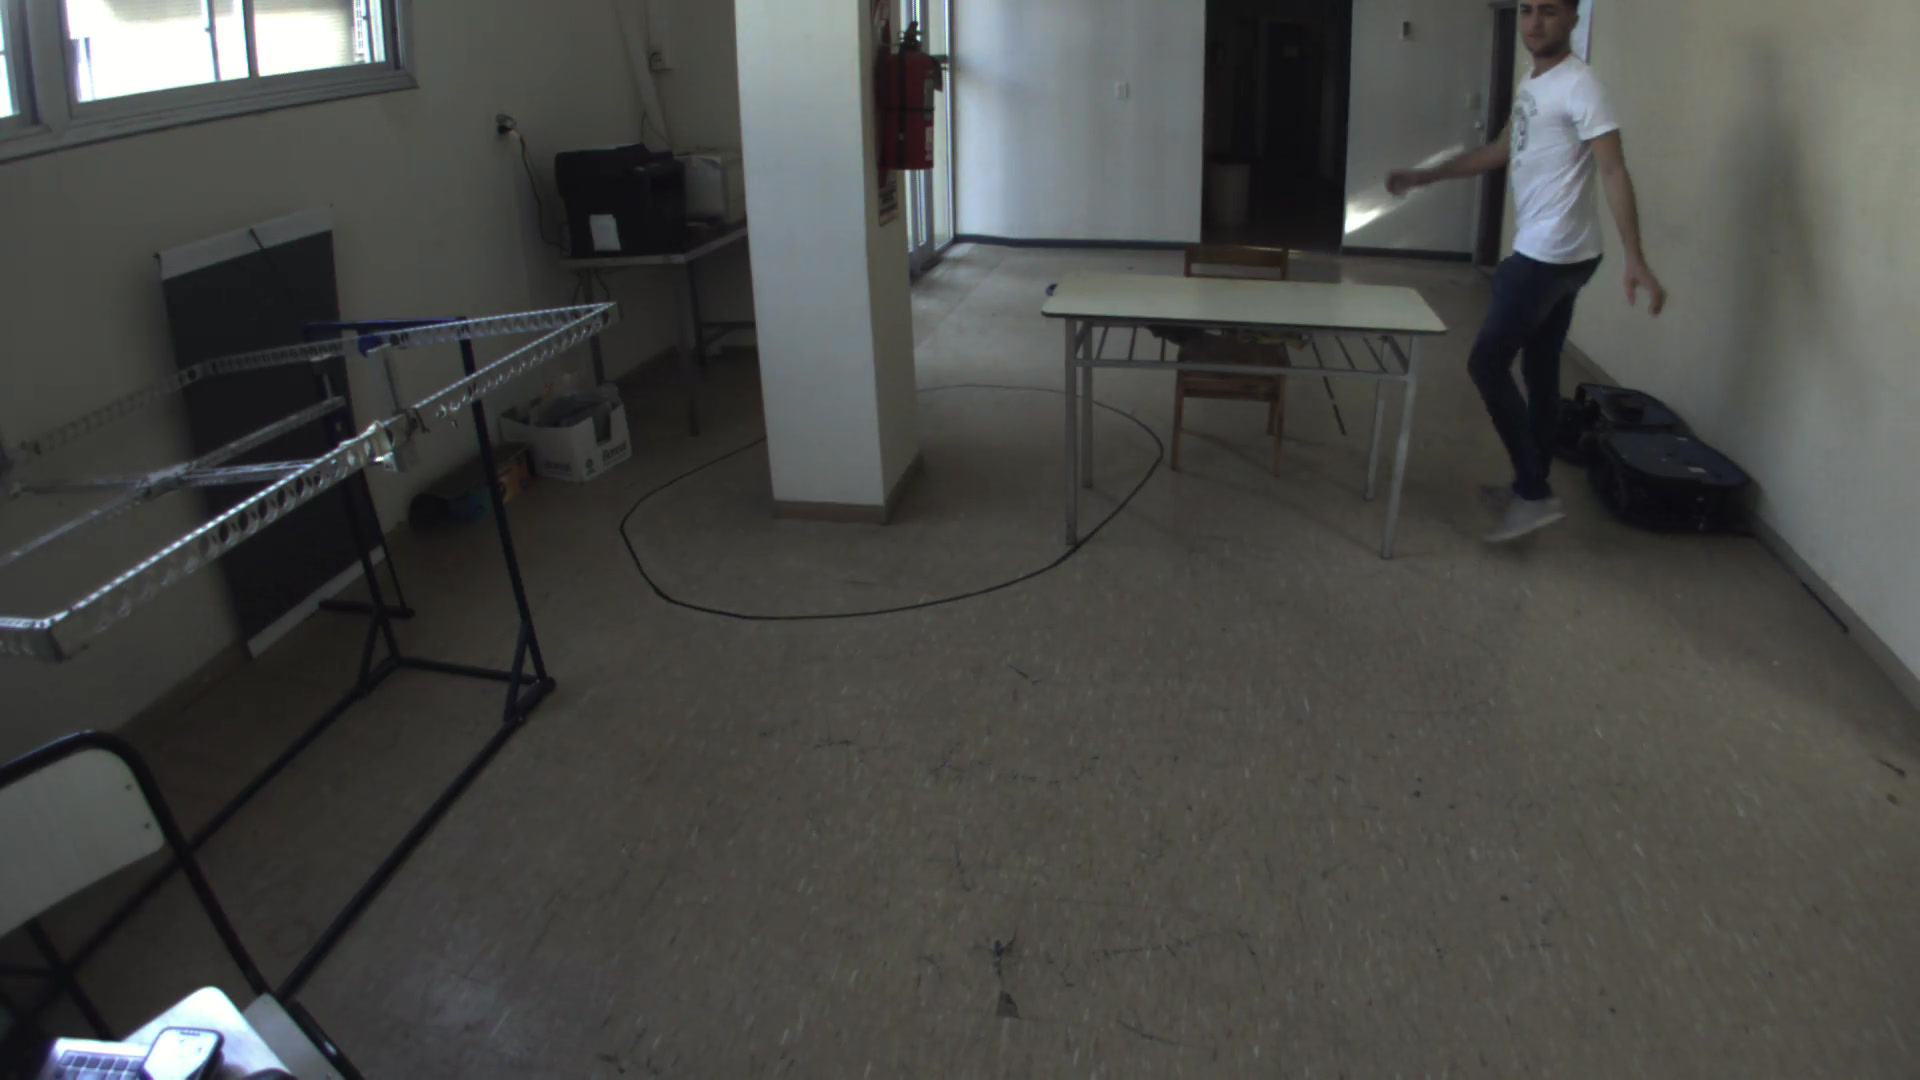hand: (1610, 258, 1677, 320), (1385, 160, 1433, 204)
